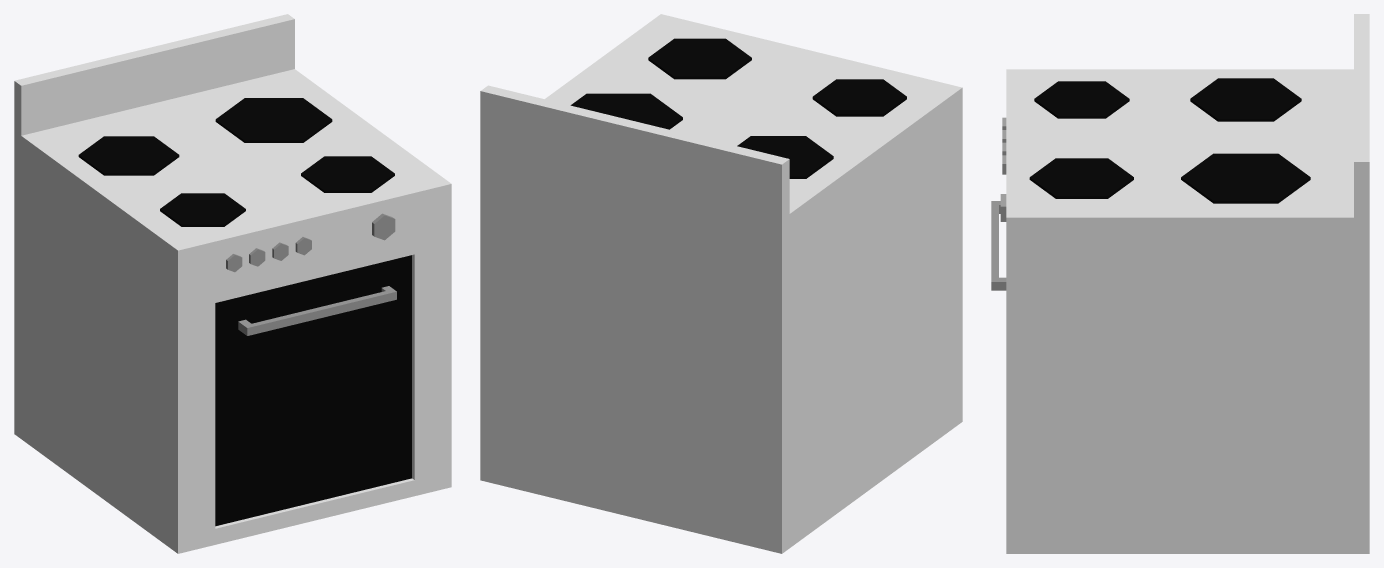
The model's file is Stove.fbx.
The picture shows the model from 3 angles, left to right: view 1: azimuth 30°, elevation 25°; view 2: azimuth 150°, elevation 25°; view 3: azimuth 270°, elevation 25°; orthographic projection. The views are drawn at different scales.
Visible parts, largest first — view 1: Cube; view 2: Cube; view 3: Cube.
Boxes of the visible parts, left/top/right/bottom form: Cube: left=14, top=14, right=451, bottom=553; Cube: left=480, top=14, right=962, bottom=553; Cube: left=991, top=14, right=1369, bottom=553.
Size of the model in its own units: 94.64 by 117 by 102.
